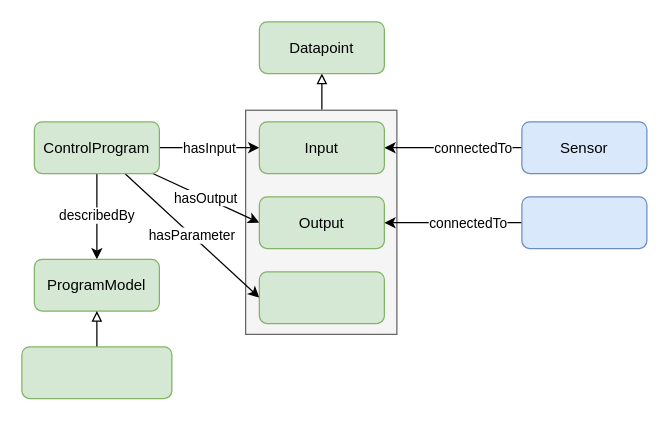
This 669x421 diagram has some shape labels left out. Each missing label, with the centre of its shape:
"Actuator" goes at [584,222].
"FiniteStateMachine" goes at [96,372].
"Parameter" goes at [321,297].
